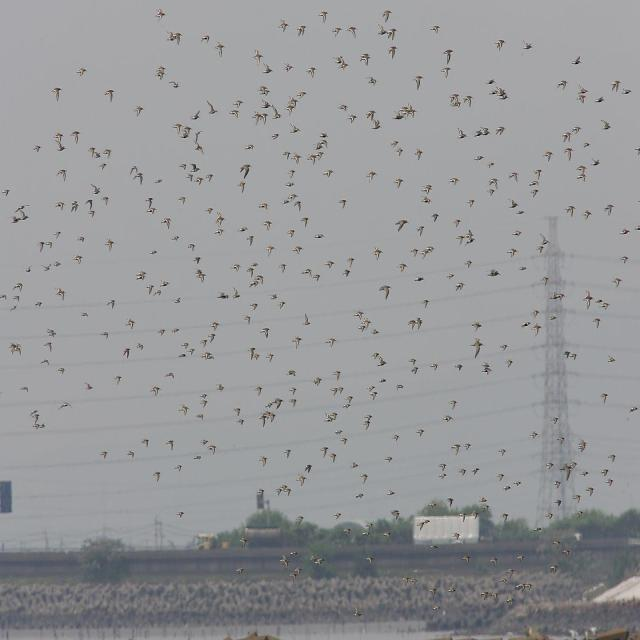bird: (564, 462, 577, 481), (473, 337, 484, 359), (378, 285, 392, 301), (238, 163, 252, 179), (231, 98, 244, 115), (578, 86, 590, 104), (254, 112, 269, 126), (401, 104, 416, 118), (305, 64, 318, 80), (343, 262, 354, 280), (168, 30, 182, 44), (463, 229, 476, 244), (408, 316, 423, 329), (15, 205, 28, 220), (410, 358, 420, 377), (488, 180, 498, 199), (538, 238, 549, 255), (335, 56, 348, 70), (270, 398, 284, 411), (330, 383, 344, 396), (578, 163, 588, 181), (476, 126, 491, 138), (258, 412, 273, 424), (201, 442, 216, 454), (422, 243, 434, 258), (584, 291, 594, 308), (396, 220, 409, 233), (326, 411, 339, 424), (195, 268, 207, 282), (374, 355, 386, 369), (171, 121, 183, 135), (278, 484, 292, 496), (206, 100, 217, 115), (449, 92, 460, 107), (287, 97, 298, 112), (363, 414, 374, 429), (488, 174, 499, 189), (313, 140, 329, 150), (360, 52, 372, 65), (246, 346, 258, 359), (270, 109, 282, 122), (604, 202, 616, 215), (550, 290, 563, 302), (497, 89, 510, 101), (252, 274, 265, 286), (457, 511, 469, 524), (600, 119, 611, 133), (412, 76, 423, 90), (156, 64, 167, 78), (342, 396, 353, 410), (528, 183, 539, 197), (337, 431, 348, 445), (86, 198, 96, 213), (190, 111, 202, 123), (215, 44, 227, 56), (262, 63, 274, 75), (521, 42, 533, 54), (10, 342, 22, 354), (12, 215, 24, 227), (297, 474, 309, 486), (260, 98, 272, 110), (387, 46, 398, 59), (216, 215, 227, 228), (293, 335, 304, 348), (367, 169, 378, 182), (133, 170, 144, 183), (198, 394, 209, 407), (394, 112, 407, 123), (332, 369, 343, 382), (598, 392, 608, 406), (373, 246, 383, 260), (368, 384, 378, 398), (444, 49, 454, 63), (246, 262, 256, 276), (566, 204, 577, 216), (512, 228, 523, 240), (125, 316, 136, 328), (377, 24, 388, 36), (327, 336, 338, 348), (91, 184, 102, 196), (393, 139, 404, 151), (394, 176, 405, 188), (190, 162, 201, 174), (133, 104, 144, 116), (441, 65, 453, 76), (454, 283, 466, 294), (421, 184, 432, 196), (345, 25, 357, 36), (388, 27, 400, 38), (55, 141, 67, 152), (456, 127, 466, 140), (566, 148, 576, 161), (162, 217, 172, 230), (57, 167, 67, 180), (104, 88, 114, 101), (297, 24, 307, 37), (104, 237, 114, 250), (578, 441, 588, 454), (612, 80, 622, 93), (237, 179, 247, 192), (452, 443, 462, 456), (320, 446, 330, 459), (288, 167, 298, 180), (445, 496, 455, 509), (302, 313, 311, 327), (497, 39, 508, 50), (497, 125, 508, 136), (509, 198, 520, 209), (290, 124, 301, 135), (557, 79, 568, 90), (156, 10, 167, 21), (573, 125, 584, 136), (255, 487, 266, 498), (275, 299, 286, 310), (202, 350, 214, 360), (464, 94, 474, 106), (168, 80, 180, 90), (488, 268, 500, 278), (544, 150, 554, 162), (232, 288, 242, 300), (473, 319, 483, 331), (431, 211, 441, 223), (136, 269, 146, 281), (122, 346, 132, 358), (546, 461, 556, 473), (180, 404, 190, 416), (56, 288, 66, 300), (411, 245, 421, 257), (300, 216, 310, 228), (381, 10, 391, 22), (89, 144, 99, 156), (254, 51, 264, 63), (258, 85, 270, 95), (266, 243, 276, 255), (510, 170, 520, 182), (582, 208, 592, 220), (482, 363, 492, 375), (210, 318, 220, 330), (372, 120, 382, 132), (312, 270, 322, 282), (532, 322, 542, 334), (534, 166, 544, 178), (290, 154, 302, 164), (192, 174, 204, 184), (518, 582, 530, 592), (59, 400, 71, 410), (328, 449, 338, 461), (88, 202, 96, 217), (480, 497, 490, 509), (280, 555, 288, 570), (552, 479, 562, 491), (37, 238, 44, 255), (488, 185, 497, 198), (54, 87, 62, 101), (144, 196, 154, 207), (368, 75, 378, 86), (598, 300, 608, 311), (54, 131, 64, 142), (573, 55, 583, 66), (614, 276, 624, 287), (507, 246, 518, 256), (193, 254, 203, 265), (366, 108, 376, 119), (312, 375, 322, 386), (72, 254, 82, 265), (293, 244, 304, 254), (338, 198, 348, 209), (200, 35, 211, 45), (151, 384, 161, 395), (317, 132, 328, 142), (242, 142, 253, 152), (560, 131, 570, 142), (219, 291, 229, 302), (78, 66, 89, 76), (452, 219, 462, 230), (259, 201, 270, 211), (302, 268, 313, 278), (530, 308, 540, 319), (250, 301, 260, 312), (520, 318, 530, 329), (244, 235, 255, 245), (342, 266, 352, 277), (298, 89, 308, 100), (530, 430, 540, 441), (306, 154, 317, 164), (315, 151, 325, 162), (593, 315, 602, 327), (196, 144, 205, 156), (70, 130, 79, 142), (69, 200, 78, 212), (102, 146, 111, 158), (466, 259, 475, 271), (255, 384, 264, 396), (260, 453, 269, 465), (161, 278, 170, 290), (294, 199, 303, 211), (304, 464, 313, 476), (207, 332, 216, 344), (590, 158, 600, 168), (414, 148, 424, 158), (140, 438, 150, 448), (285, 62, 295, 72), (262, 221, 272, 231), (398, 262, 408, 272), (414, 427, 424, 437), (346, 114, 356, 124), (56, 200, 66, 210), (430, 363, 440, 373), (486, 78, 496, 88), (236, 225, 246, 235), (216, 227, 226, 237), (600, 469, 610, 479), (325, 260, 335, 270), (187, 240, 197, 250), (420, 194, 430, 204), (358, 323, 368, 333), (288, 368, 298, 378), (204, 172, 214, 182), (488, 556, 498, 566), (552, 498, 562, 508), (394, 383, 404, 393), (279, 19, 288, 30), (498, 472, 507, 483), (44, 342, 53, 353), (262, 327, 271, 338), (449, 399, 458, 410), (542, 275, 551, 286), (443, 413, 454, 422), (14, 281, 23, 292), (243, 315, 252, 326), (32, 423, 46, 430), (416, 225, 424, 237), (558, 433, 566, 445), (338, 102, 348, 111), (371, 328, 380, 338), (501, 342, 510, 352), (166, 439, 175, 449), (85, 381, 94, 391), (332, 26, 342, 35), (318, 12, 327, 22), (285, 447, 294, 457), (420, 299, 429, 309), (468, 198, 477, 208), (361, 474, 370, 484), (506, 359, 515, 369), (586, 485, 595, 495), (114, 374, 123, 384), (446, 271, 455, 281), (474, 153, 484, 162), (605, 478, 615, 487), (582, 139, 592, 148), (609, 354, 618, 364), (291, 398, 300, 408), (325, 168, 334, 178), (620, 255, 629, 265), (233, 407, 242, 417), (100, 196, 109, 206), (0, 188, 9, 198), (177, 162, 186, 172), (450, 174, 459, 184), (629, 405, 638, 415), (392, 510, 402, 519), (463, 555, 472, 565), (354, 308, 363, 318), (266, 351, 275, 361), (99, 330, 108, 340), (170, 233, 179, 243), (235, 566, 244, 576), (315, 557, 325, 566), (500, 512, 509, 522), (505, 568, 514, 578), (409, 576, 418, 586), (427, 588, 436, 598), (48, 328, 56, 339), (546, 511, 554, 522), (270, 293, 278, 304), (550, 563, 558, 574), (77, 233, 85, 244), (107, 298, 115, 309), (240, 538, 248, 549), (352, 606, 360, 617), (381, 532, 392, 540), (506, 596, 514, 607), (459, 466, 467, 477), (548, 313, 556, 324), (564, 348, 571, 360), (195, 130, 202, 142), (472, 468, 481, 477), (485, 161, 494, 170), (595, 95, 604, 104), (53, 230, 62, 239), (288, 229, 297, 238), (349, 462, 358, 471), (40, 358, 49, 367), (454, 363, 463, 372), (427, 501, 436, 510), (489, 592, 498, 601), (533, 526, 542, 535), (287, 386, 296, 395), (438, 464, 448, 472), (575, 495, 583, 505), (335, 511, 343, 521), (610, 453, 618, 463), (154, 472, 162, 482), (270, 132, 280, 140), (394, 434, 402, 444), (126, 450, 136, 458), (414, 275, 424, 283), (32, 142, 40, 152), (622, 226, 630, 236), (99, 160, 107, 170), (379, 375, 387, 385), (42, 263, 52, 271), (136, 341, 144, 351), (200, 338, 208, 348), (296, 515, 304, 525), (480, 591, 488, 601), (517, 554, 525, 564), (401, 576, 409, 586), (552, 540, 560, 550), (579, 470, 589, 478), (499, 447, 507, 457), (570, 350, 578, 360), (235, 419, 245, 427), (285, 181, 295, 189), (282, 150, 290, 160), (279, 263, 286, 274), (437, 473, 448, 480), (57, 367, 66, 375), (204, 205, 213, 213), (159, 328, 167, 337), (503, 484, 512, 492), (432, 24, 440, 33), (622, 88, 630, 97), (99, 450, 108, 458), (24, 266, 32, 275), (314, 232, 323, 240), (33, 300, 42, 308), (80, 310, 89, 318), (20, 384, 28, 393), (182, 125, 191, 133), (365, 556, 374, 564), (343, 527, 351, 536), (364, 522, 373, 530), (387, 488, 396, 496), (471, 509, 477, 521), (286, 194, 298, 200), (175, 464, 182, 474), (146, 284, 153, 294), (289, 573, 296, 583), (194, 454, 202, 462), (176, 511, 184, 519), (233, 263, 241, 271), (514, 480, 522, 488), (153, 290, 161, 298), (173, 296, 181, 304), (290, 550, 298, 558), (362, 531, 370, 539), (355, 492, 363, 500), (416, 522, 424, 530), (451, 532, 459, 540), (550, 416, 558, 424), (463, 442, 471, 450), (386, 456, 394, 464), (218, 382, 225, 391), (13, 295, 20, 304), (195, 412, 204, 419), (149, 249, 158, 256), (130, 165, 137, 174), (32, 414, 39, 423), (561, 549, 570, 556), (281, 198, 290, 205), (53, 258, 59, 268), (165, 371, 173, 378), (181, 341, 189, 348), (154, 178, 162, 185), (178, 196, 185, 204), (294, 568, 302, 575), (447, 587, 455, 594), (575, 511, 582, 519), (519, 265, 526, 273), (29, 410, 38, 416), (310, 554, 316, 563), (429, 544, 438, 550), (186, 173, 193, 180), (423, 518, 430, 525), (500, 577, 507, 584), (187, 348, 195, 354), (10, 305, 18, 311), (432, 606, 440, 612), (180, 134, 189, 139), (171, 327, 178, 333), (178, 354, 186, 358)
